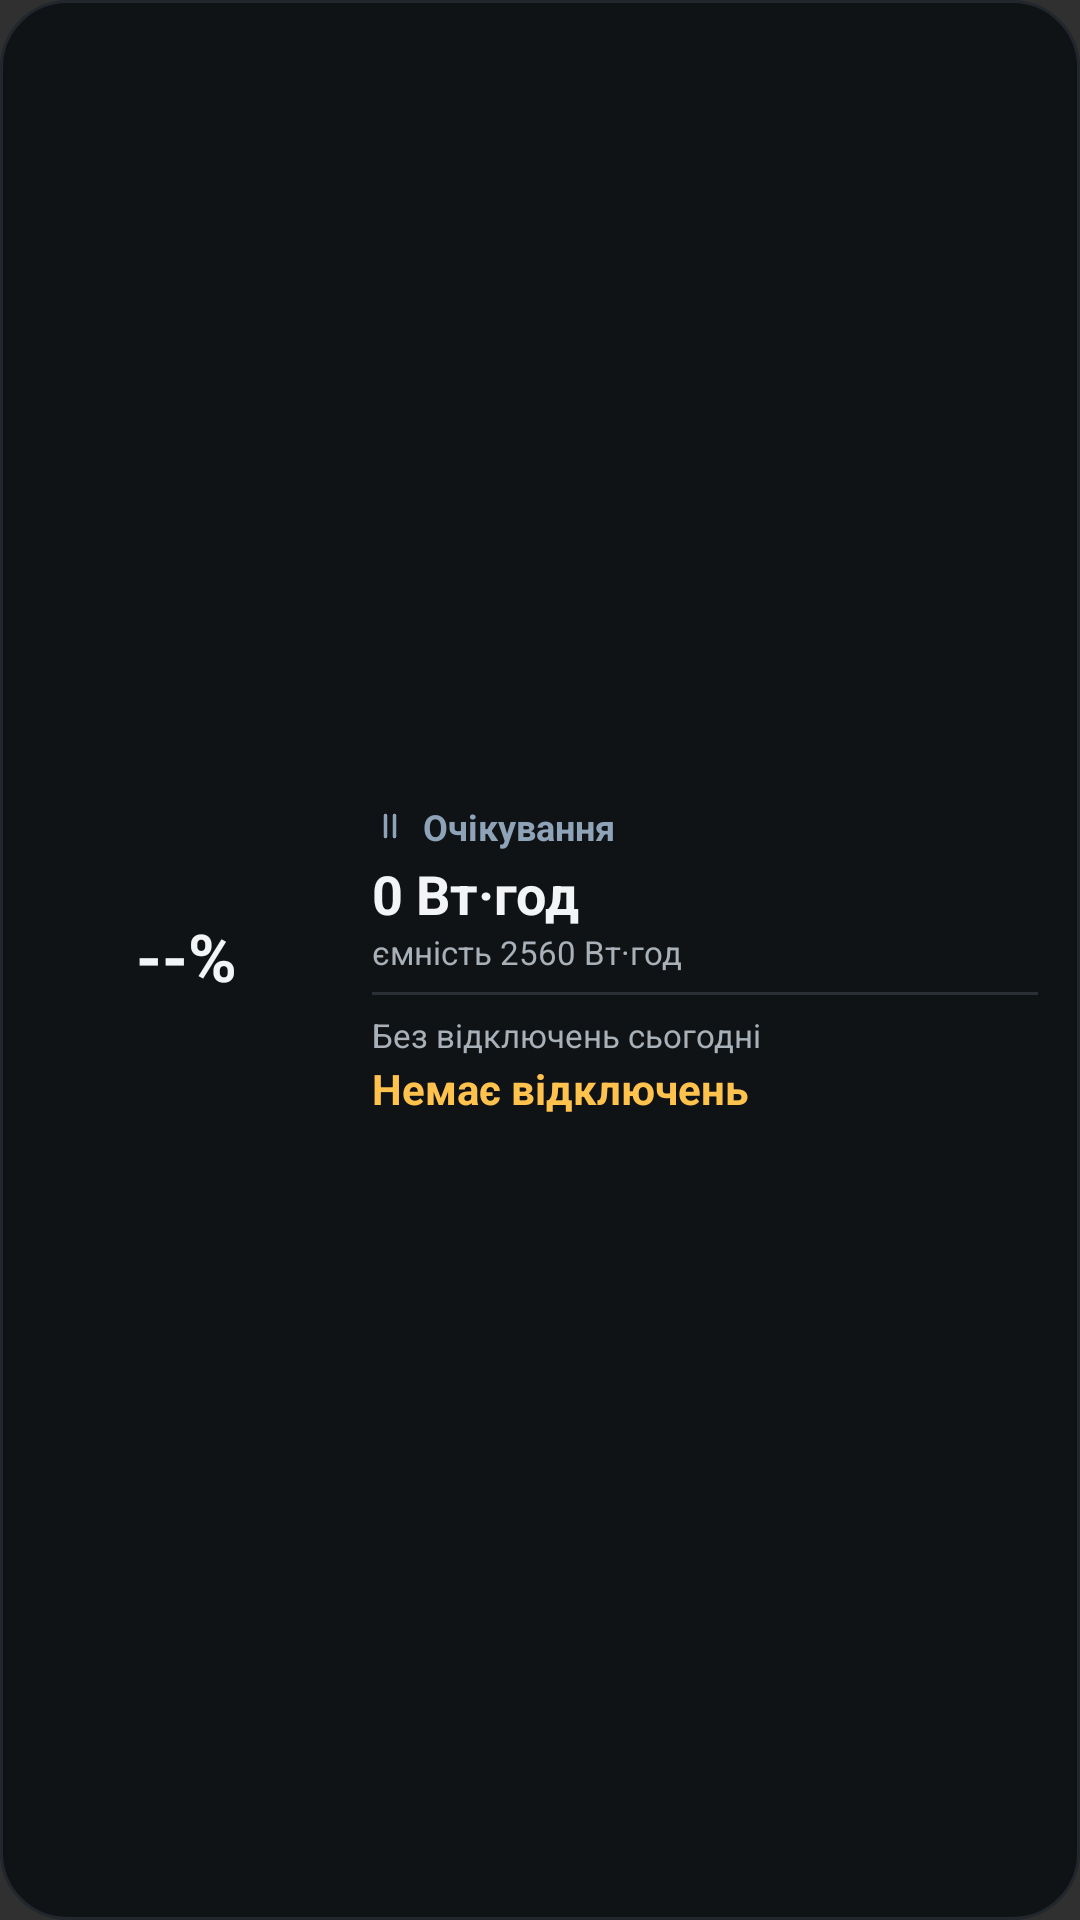

Locate icon controls on the screen. Image size 1080x1920, boxes as box(x1, y1, x2, y2).
mode idle: box(383, 813, 397, 839)
